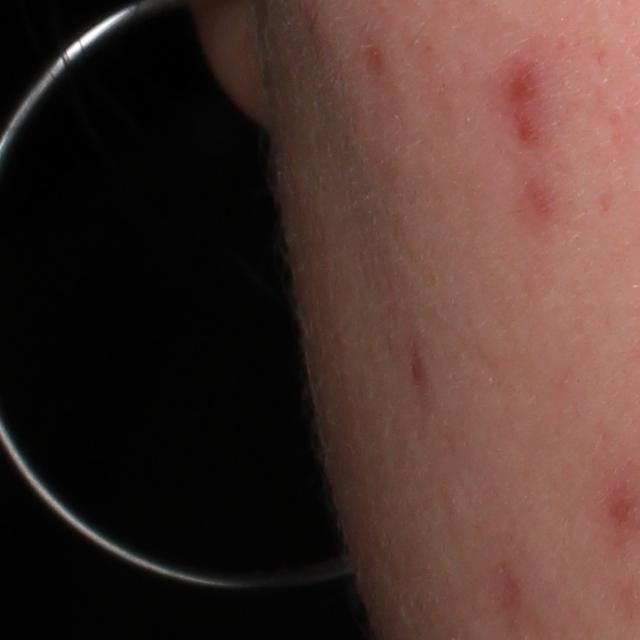papule: (496, 58, 546, 114), (517, 112, 543, 144)
